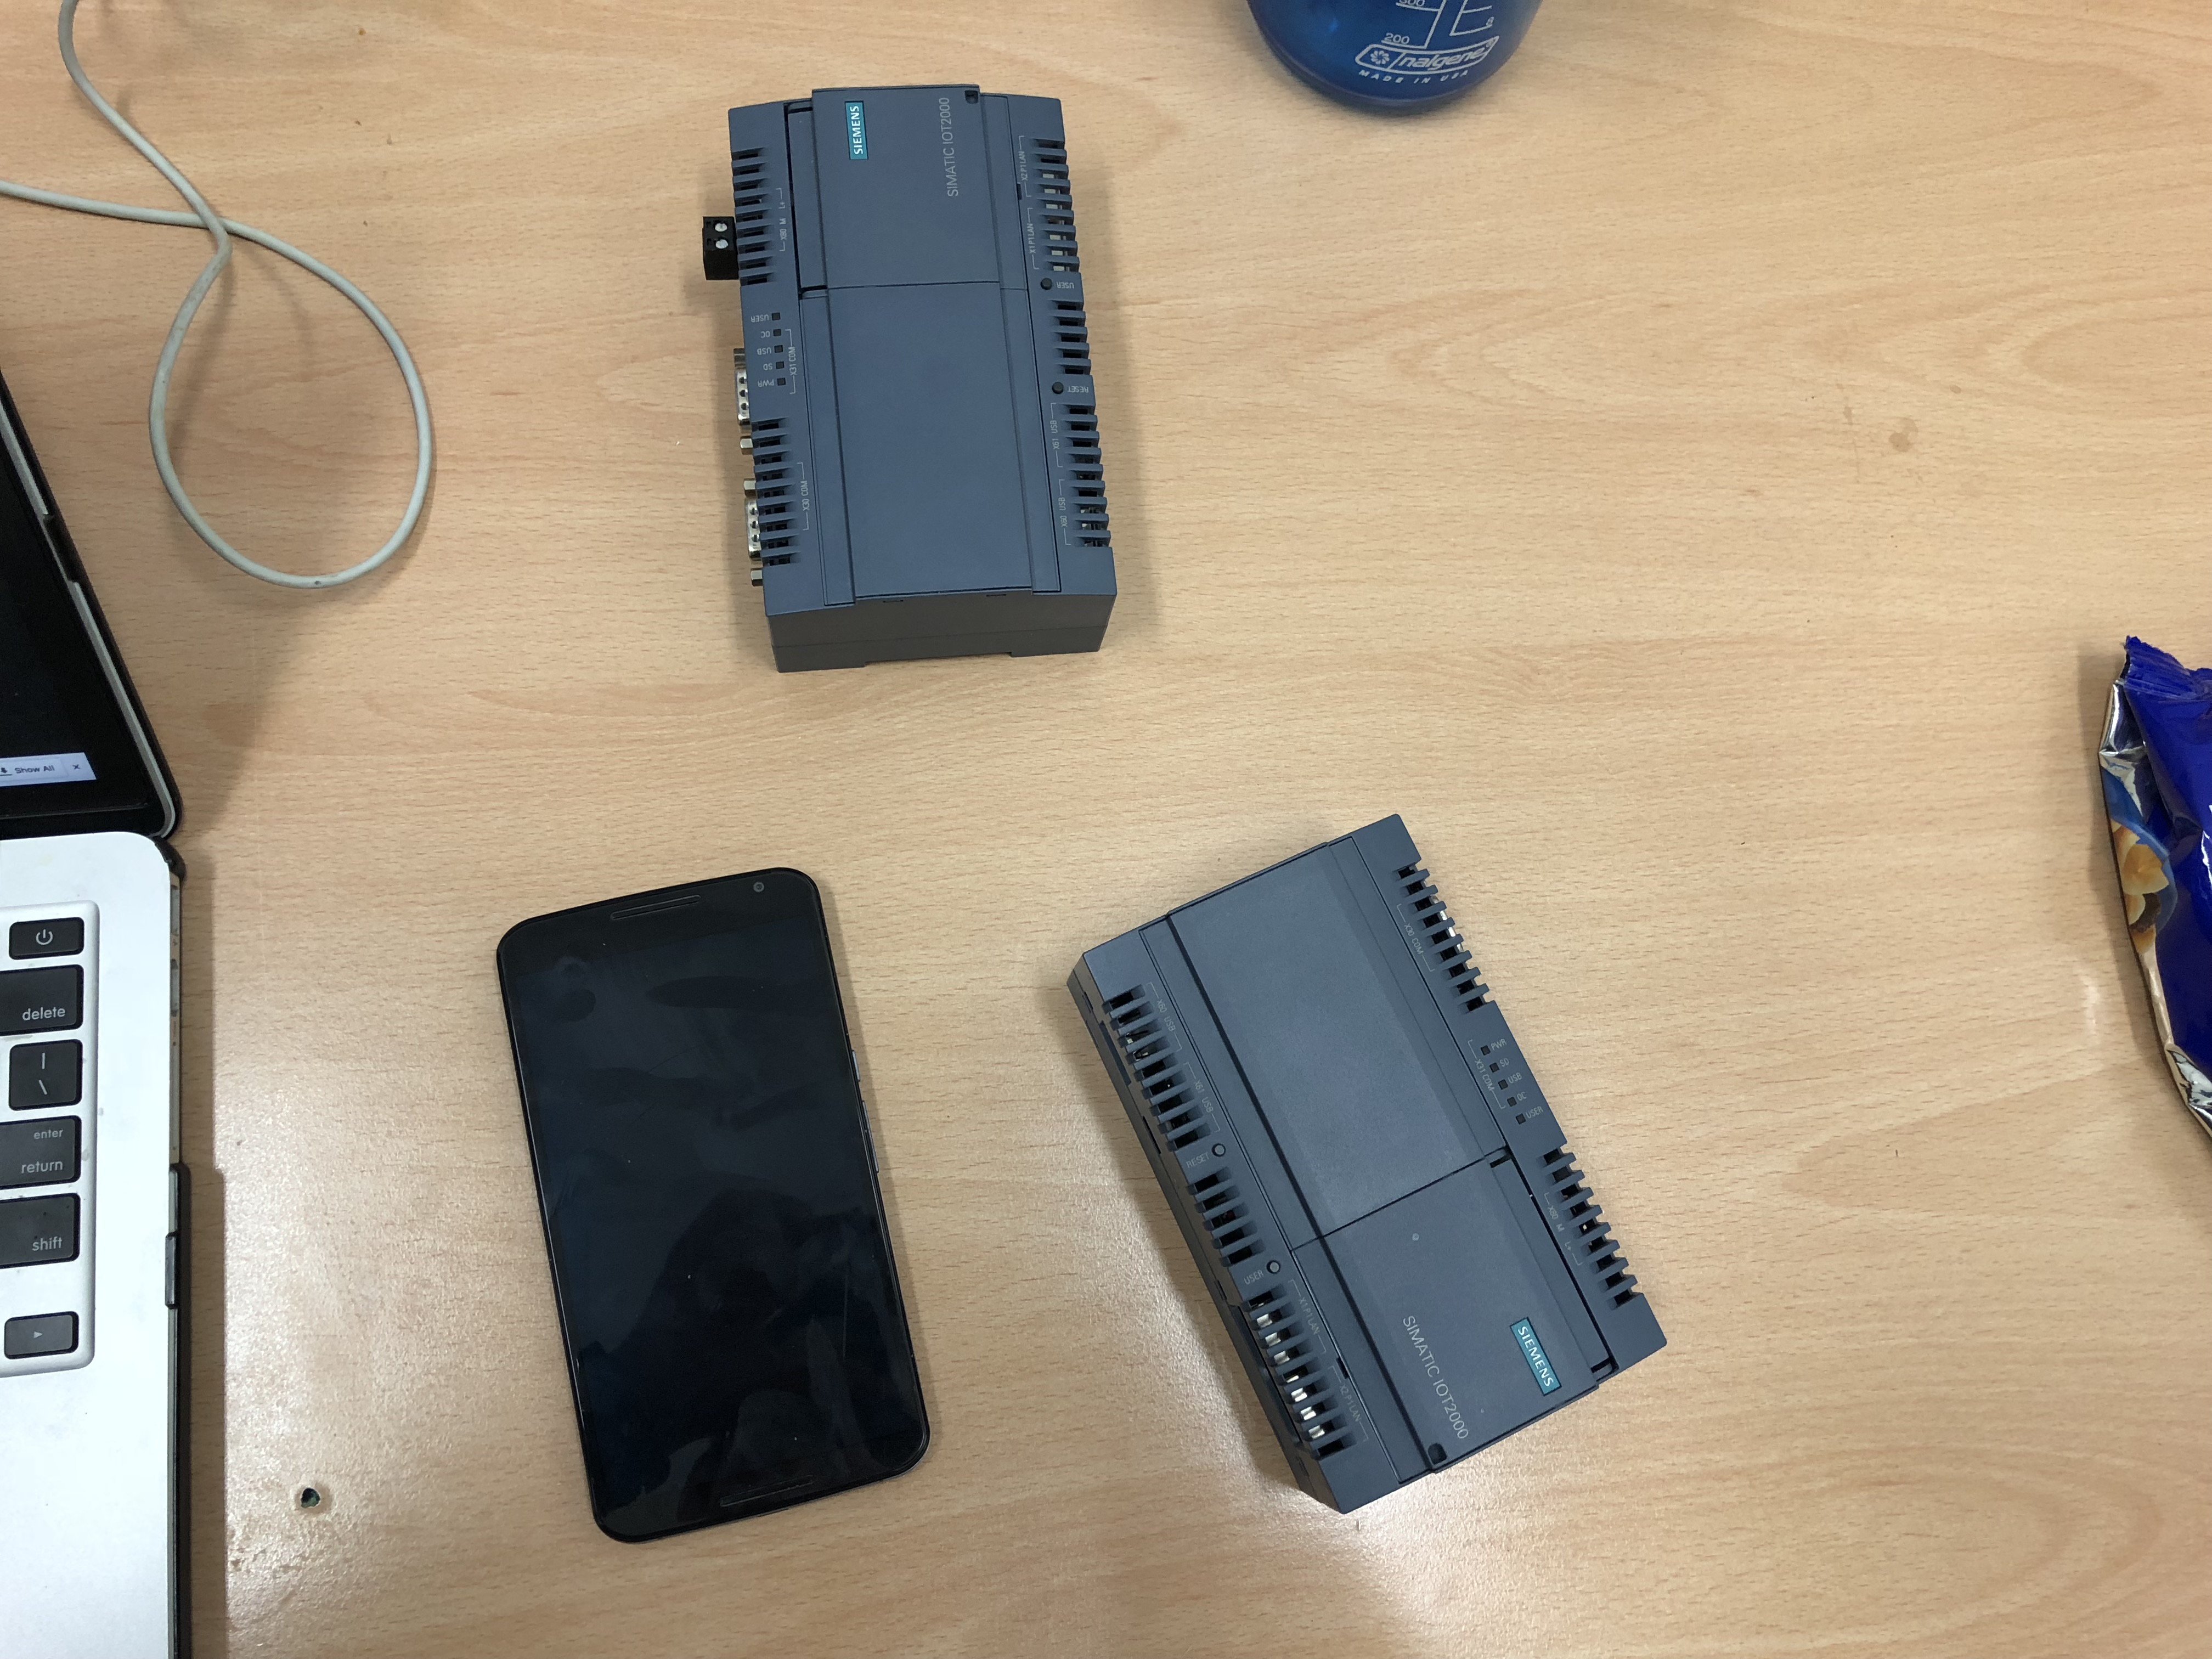device: (1066, 814, 1669, 1514), (702, 84, 1120, 674)
